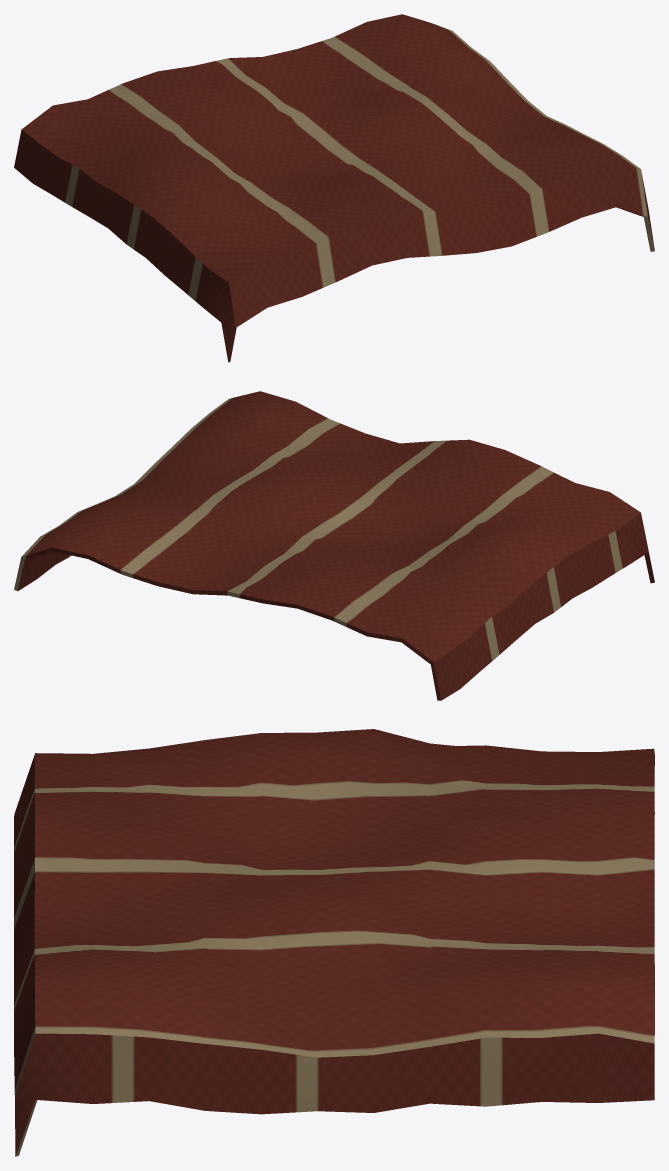
File: Bed_Blanket.fbx
3 renders of one model, top to bottom at view 1: azimuth 30°, elevation 25°; view 2: azimuth 150°, elevation 25°; view 3: azimuth 270°, elevation 25°, orthographic. The views are drawn at different scales.
Visible parts, largest first — view 1: Bed_Blanket; view 2: Bed_Blanket; view 3: Bed_Blanket.
Boxes of the visible parts, x1=… form: Bed_Blanket: x1=14, y1=14, x2=654, y2=362; Bed_Blanket: x1=14, y1=391, x2=654, y2=700; Bed_Blanket: x1=14, y1=729, x2=654, y2=1156.
Size of the model in its own units: 1.31 by 0.3113 by 1.14.
